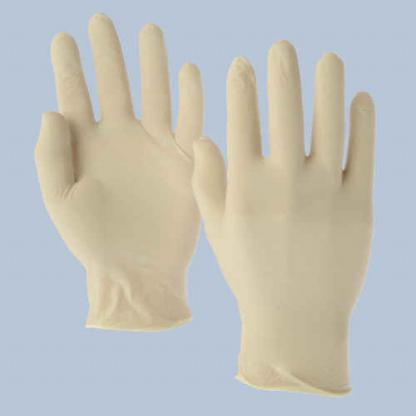with_gloves: (190, 48, 378, 395), (37, 16, 208, 325)
